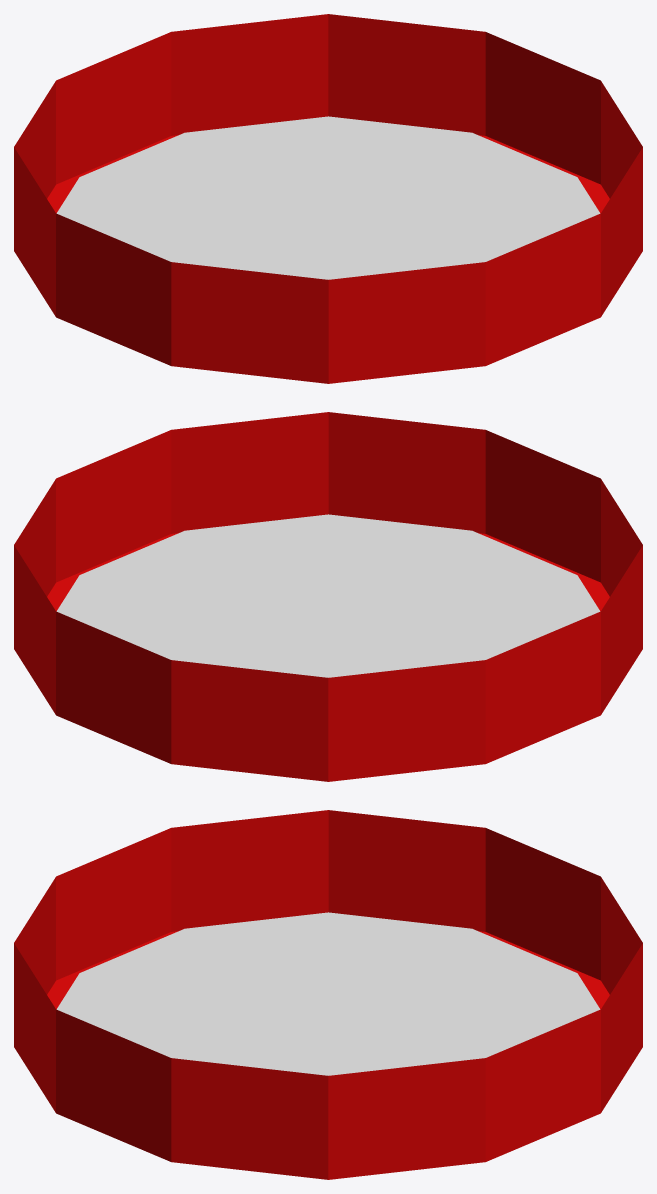
File: Light.fbx
3 renders of one model, top to bottom at view 1: azimuth 30°, elevation 25°; view 2: azimuth 150°, elevation 25°; view 3: azimuth 270°, elevation 25°, orthographic.
Visible parts, largest first — view 1: Light; view 2: Light; view 3: Light.
Part boxes in pixels (box(x1,y1,x2,y2)): Light: box(14, 14, 642, 383); Light: box(14, 412, 642, 781); Light: box(14, 810, 642, 1179).
Bounding box in the file's own units: 45.68 × 8.34 × 45.68.
